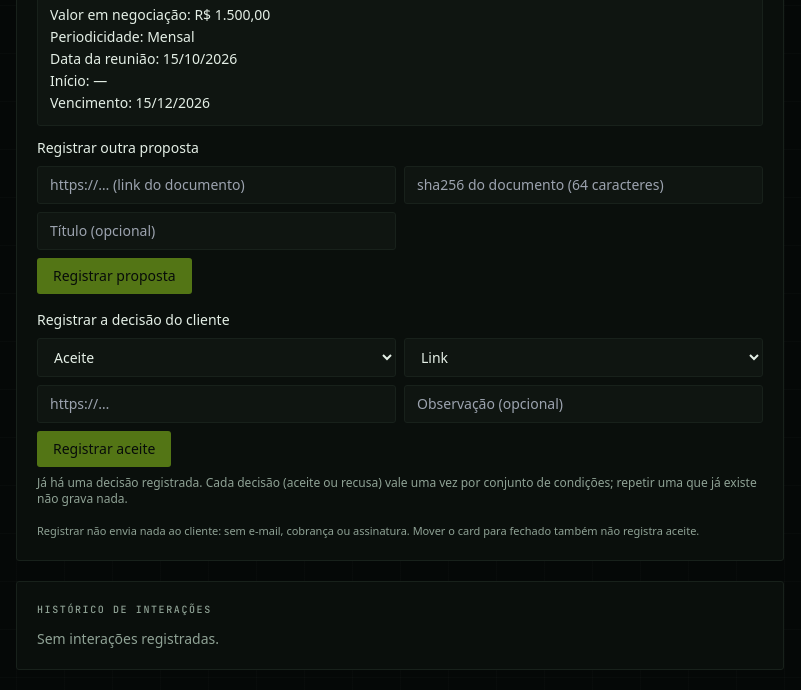
Scenario: ROOT-49: Proposta e aceite na tela do lead › 409 decisao_superada: mostra a frase da API e o estado de agora, sem dizer "Aceite registrado"
(page scrolled)
Type "https://drive.exemplo/aceite" into the field named "Link da evidência" at (216, 404), box [37, 385, 396, 423]
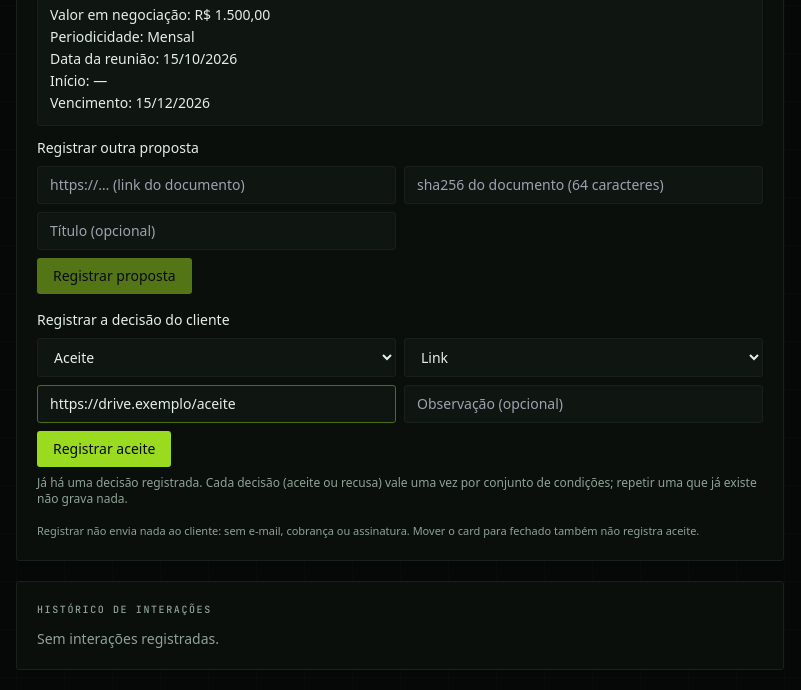
Click the button "Registrar aceite" at (104, 449), box [37, 431, 171, 467]
(page scrolled)
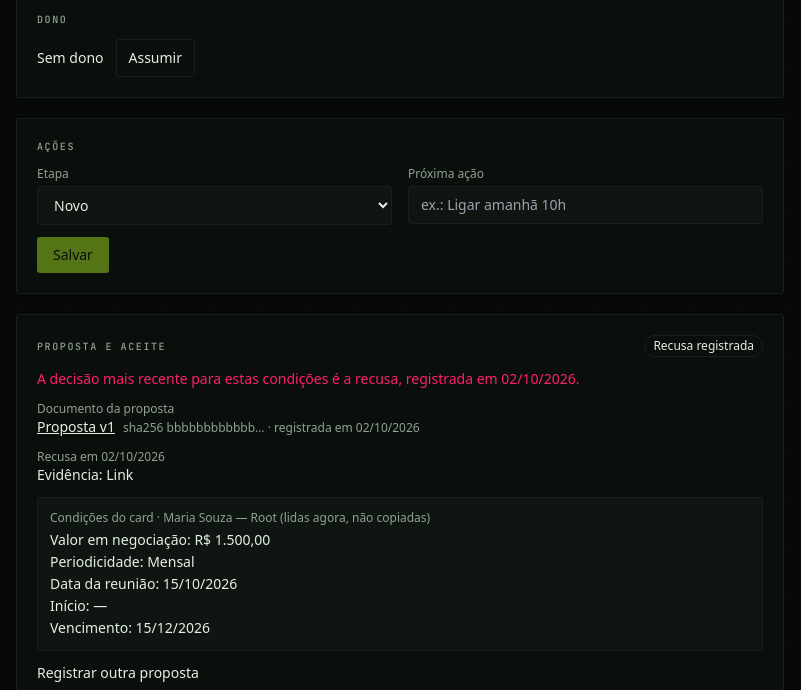
Expected: the text "Recusa registrada" is shown, [644, 335, 763, 357]
Expected: the message shows "A decisão mais recente para estas condições é a recusa, registrada em 02/10/2026.", [37, 369, 580, 388]
